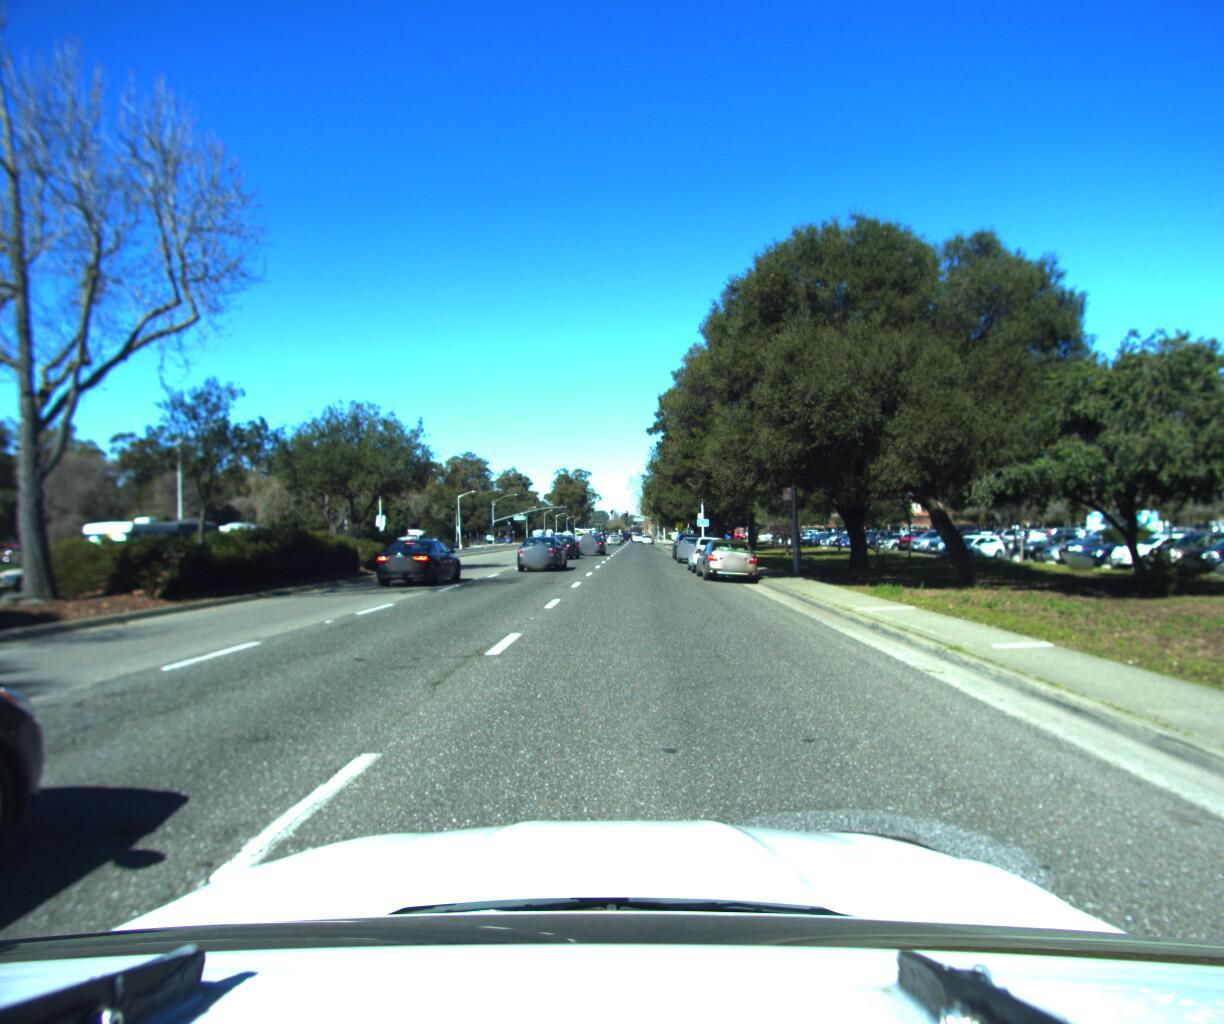car: (0, 564, 82, 1024), (370, 533, 465, 586), (689, 536, 761, 583), (682, 535, 734, 576), (512, 533, 566, 571), (537, 533, 580, 560), (672, 533, 710, 564), (575, 532, 605, 555)
other_vehicle: (69, 515, 223, 588), (182, 522, 288, 578)
